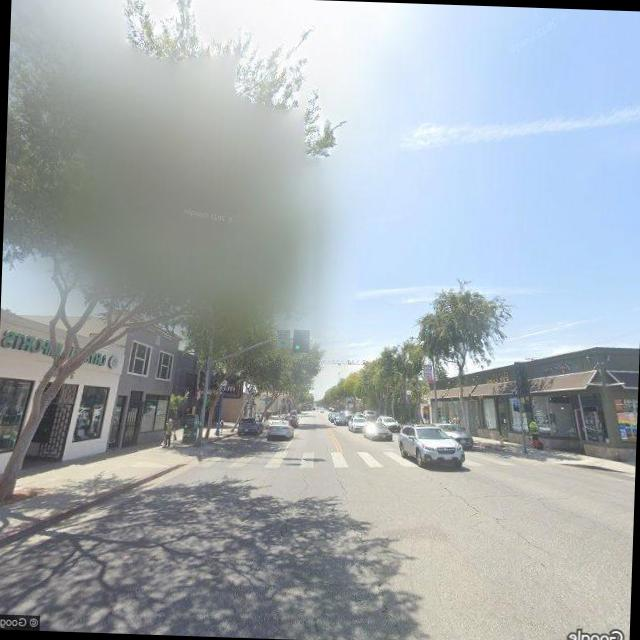crack: (431, 473, 554, 557)
